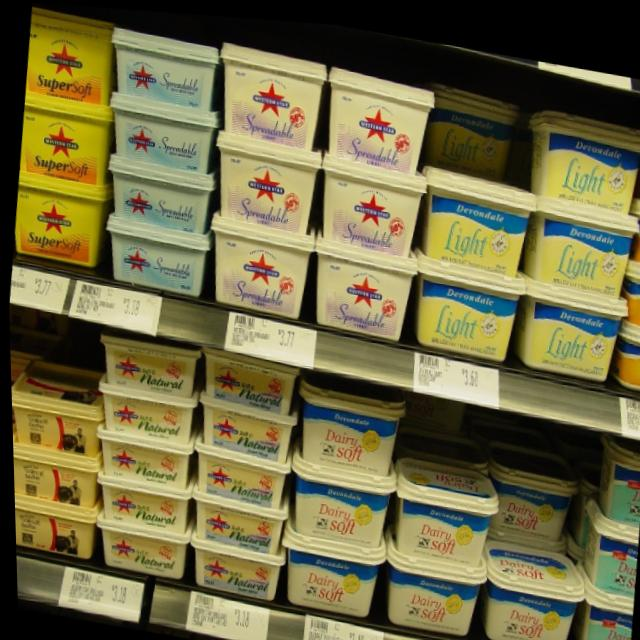q289: (215, 44, 327, 164), (320, 60, 434, 177), (210, 143, 321, 236), (312, 246, 412, 338), (315, 168, 417, 257), (208, 229, 308, 317)
